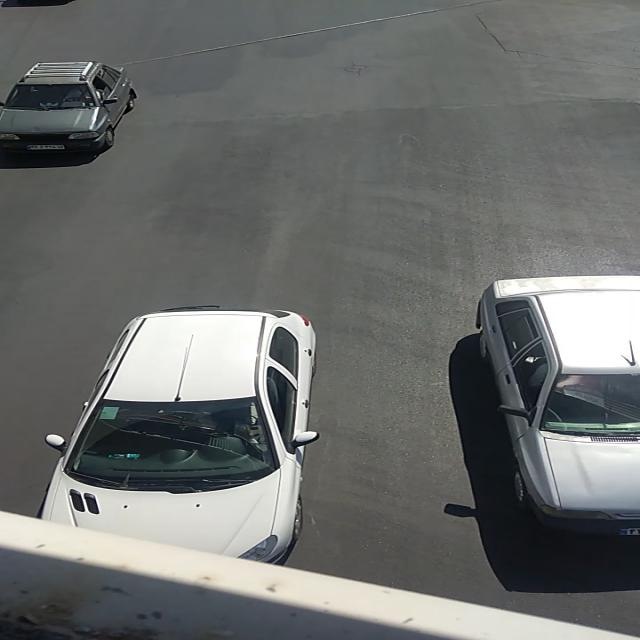car: (36, 304, 322, 562), (474, 277, 639, 541), (2, 61, 148, 159)
